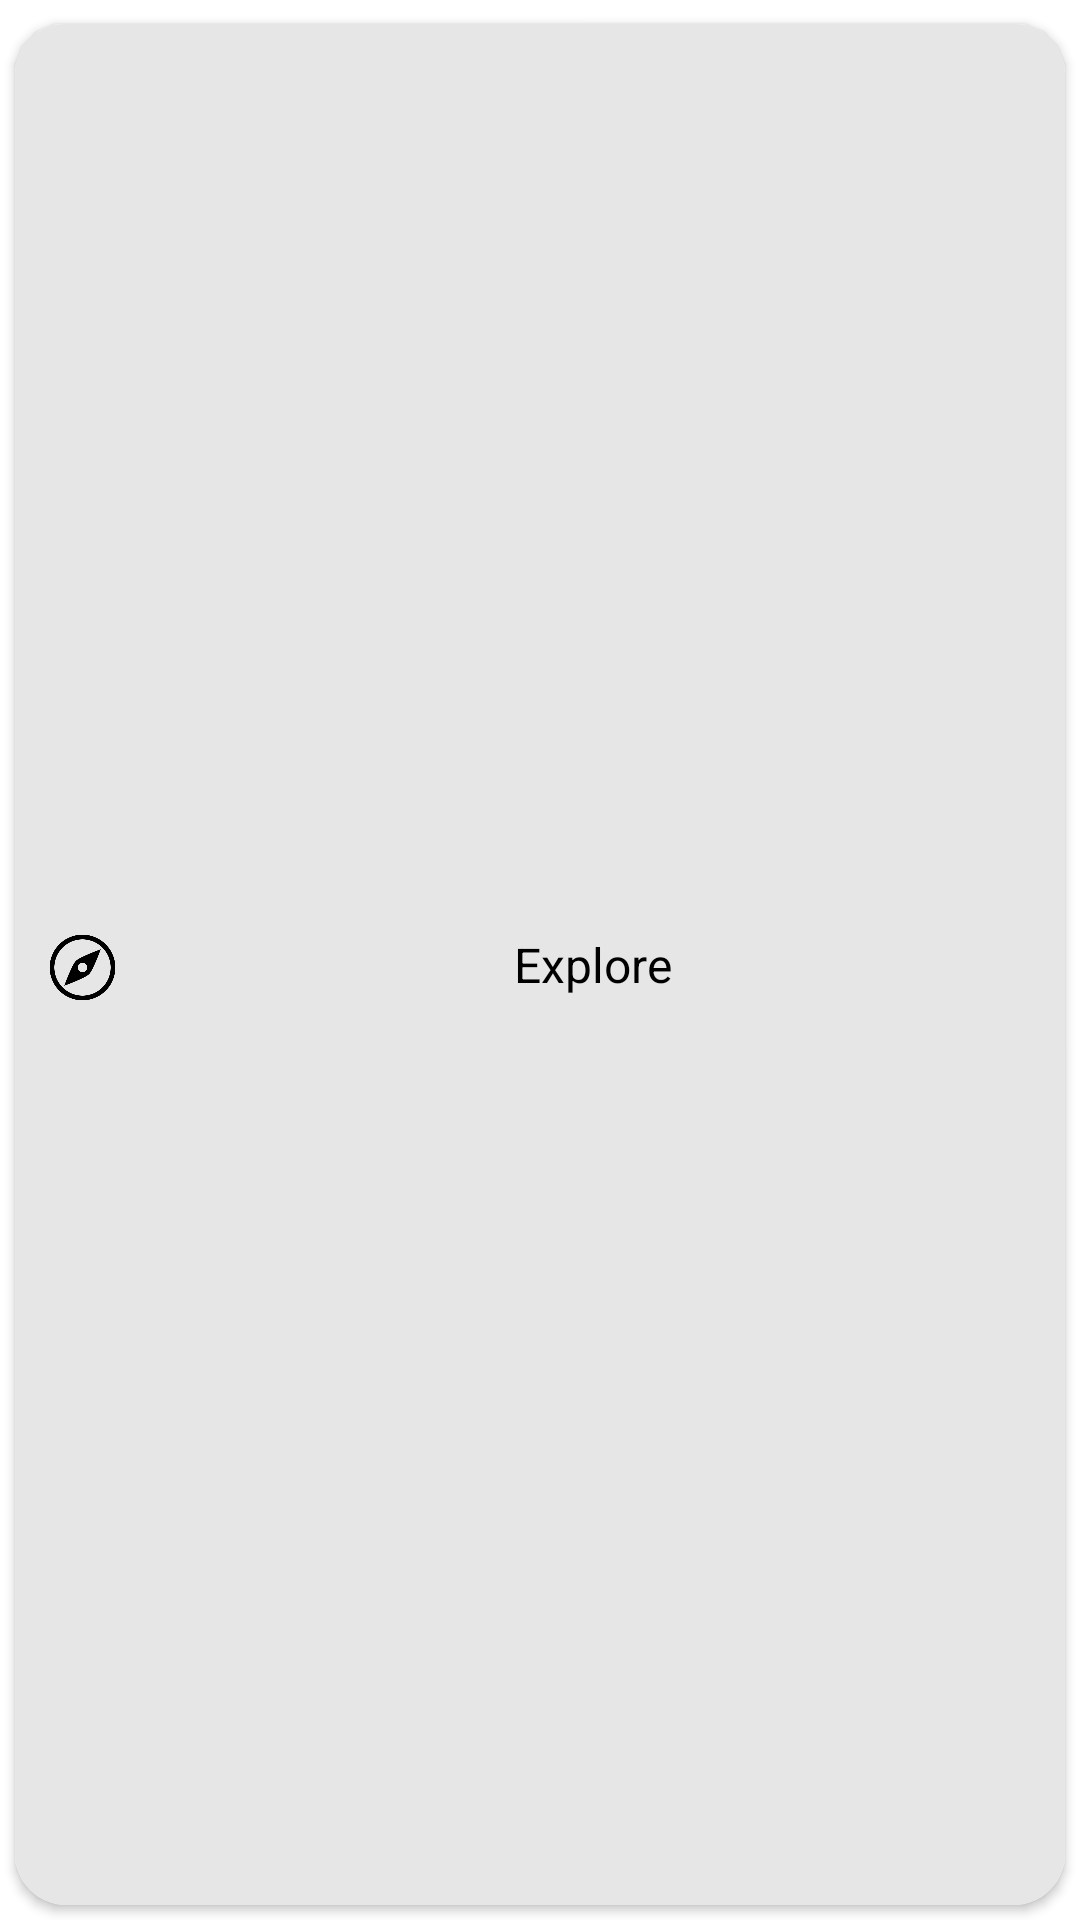

Where icons sit on this 1080 x 1920 app screen, as (x1, y1, x2, y2):
youtube compas: (50, 935, 115, 1000)
